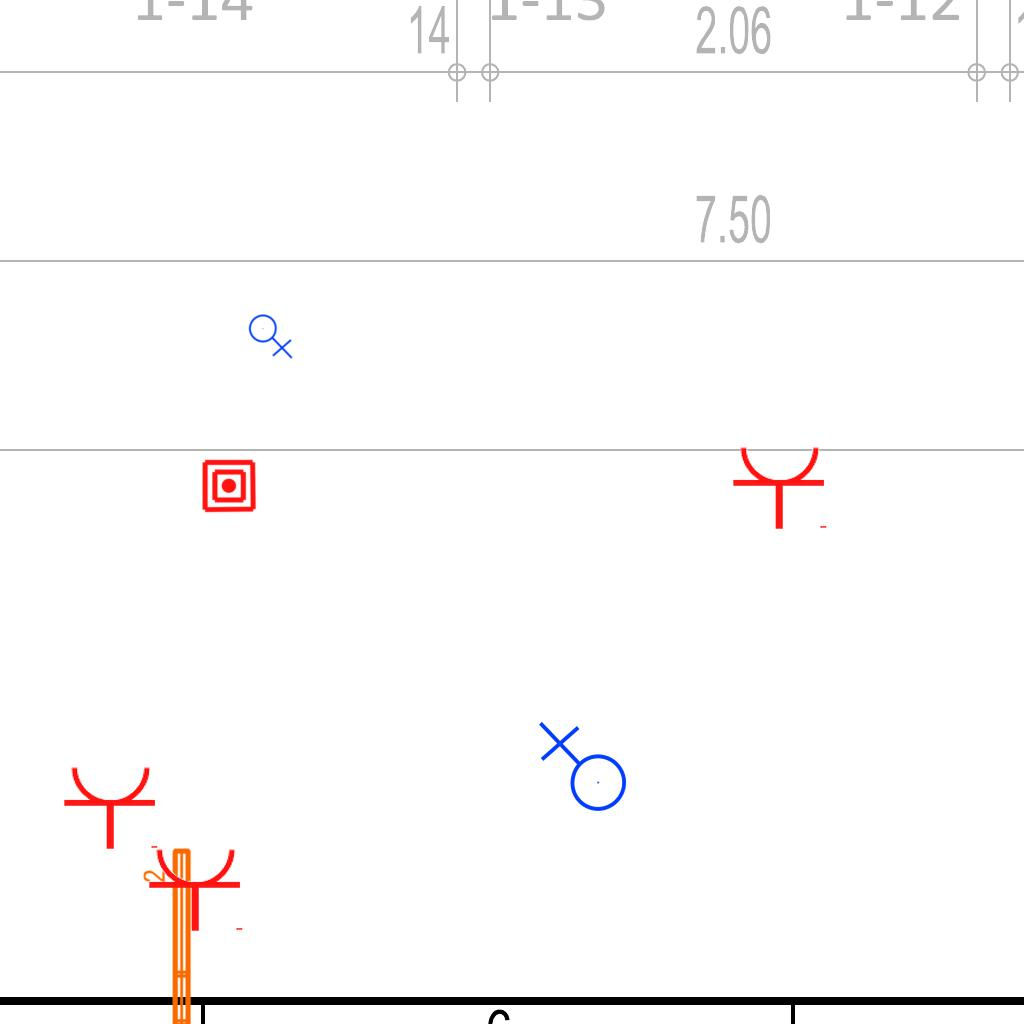Ambulanz_Pendelleuchte_LED: (141, 844, 197, 1024)
Elektroanschluss_allgemein_230V_Geraeteanschlussdose_230V: (534, 721, 628, 820), (248, 310, 295, 359)
NAM-Nichtautomatischer_Melder: (201, 458, 257, 514)
Schukosteckdose_einfach: (731, 444, 831, 531), (62, 764, 162, 851), (147, 846, 247, 933)
